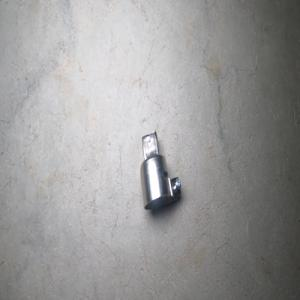MetalPart: (139, 130, 181, 210)
